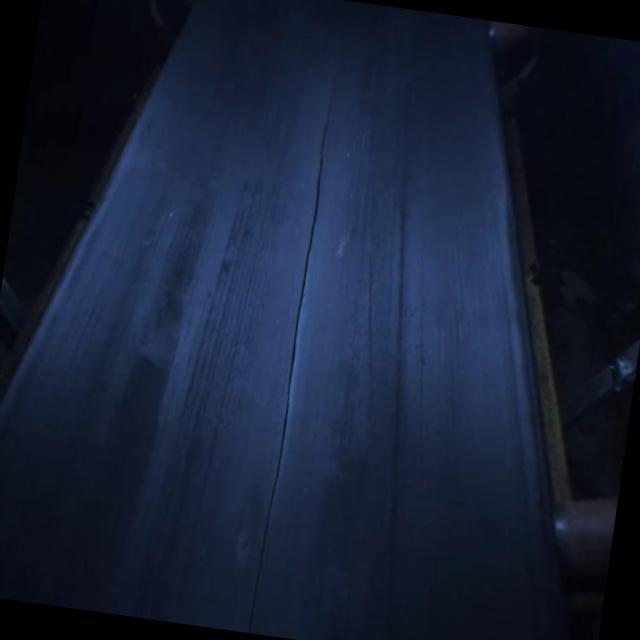Tear: (233, 100, 339, 640)
